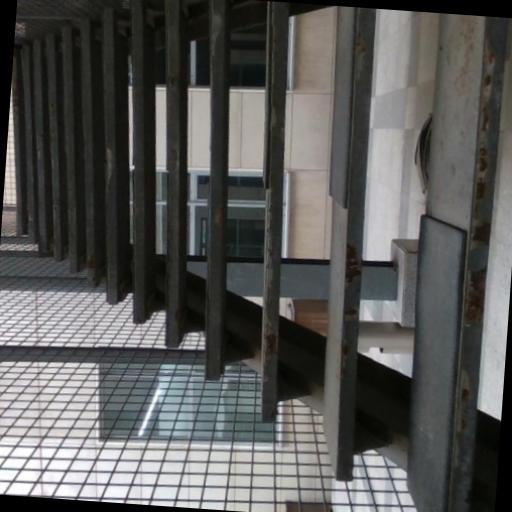stairs: (12, 0, 506, 511)
